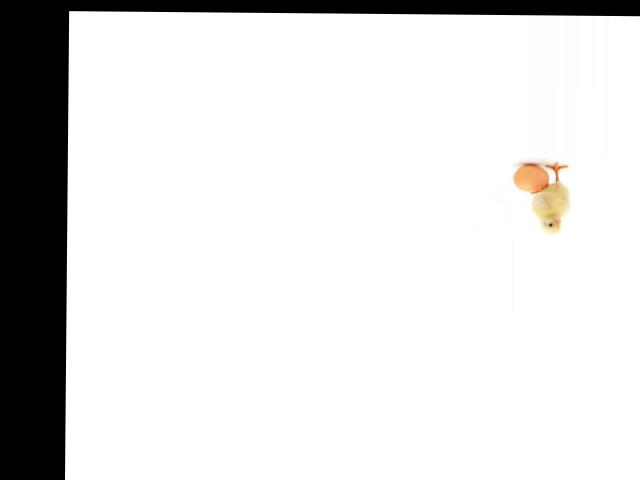egg: (513, 164, 550, 192)
